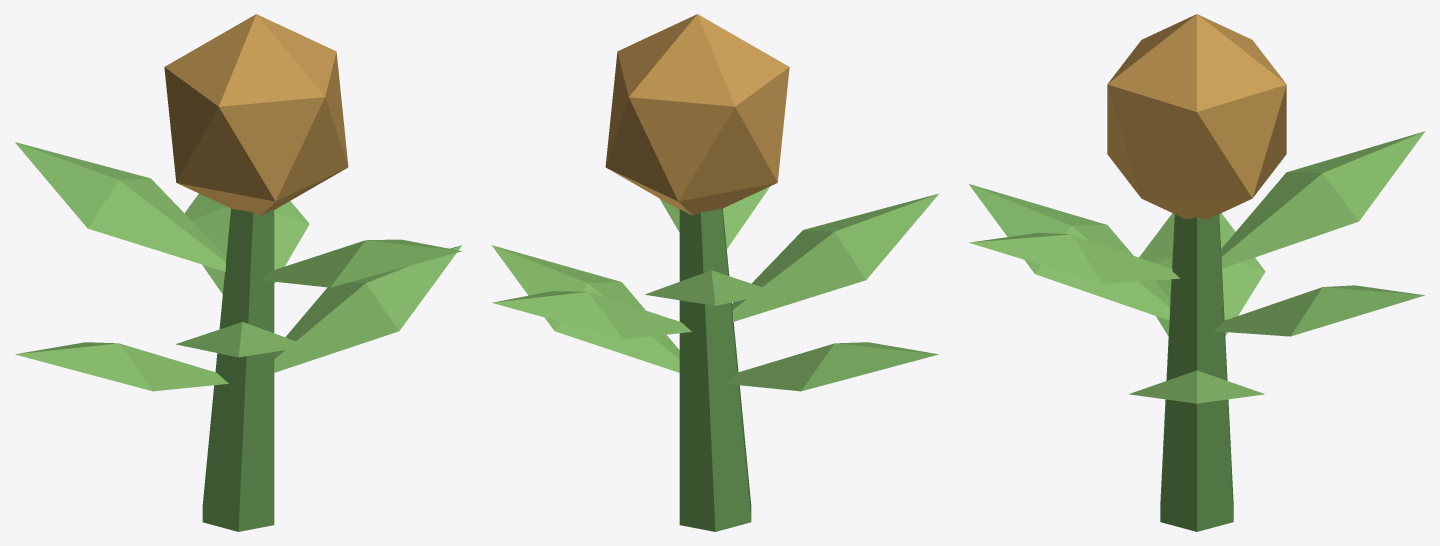
The model's file is pg_plant_purified.fbx.
The picture shows the model from 3 angles, left to right: view 1: azimuth 30°, elevation 25°; view 2: azimuth 150°, elevation 25°; view 3: azimuth 270°, elevation 25°; orthographic projection. The views are drawn at different scales.
Parts seen in each view (by area): view 1: GEO-PlantBud.001, GEO-PlantStem.001, GEO-PlantLeaf.008, GEO-PlantLeaf.006, GEO-PlantLeaf.009, GEO-PlantLeaf.011, GEO-PlantLeaf.007, GEO-PlantLeaf.010; view 2: GEO-PlantBud.001, GEO-PlantStem.001, GEO-PlantLeaf.010, GEO-PlantLeaf.006, GEO-PlantLeaf.009, GEO-PlantLeaf.007, GEO-PlantLeaf.008, GEO-PlantLeaf.011; view 3: GEO-PlantBud.001, GEO-PlantStem.001, GEO-PlantLeaf.008, GEO-PlantLeaf.010, GEO-PlantLeaf.007, GEO-PlantLeaf.011, GEO-PlantLeaf.009, GEO-PlantLeaf.006.
Boxes of the visible parts, x1,y1,x2,y2 form: GEO-PlantBud.001: (164, 14, 348, 215); GEO-PlantStem.001: (202, 208, 274, 531); GEO-PlantLeaf.008: (15, 142, 226, 271); GEO-PlantLeaf.006: (274, 245, 461, 372); GEO-PlantLeaf.009: (15, 342, 228, 391); GEO-PlantLeaf.011: (260, 239, 461, 287); GEO-PlantLeaf.007: (184, 193, 309, 294); GEO-PlantLeaf.010: (176, 322, 309, 357); GEO-PlantBud.001: (605, 14, 789, 215); GEO-PlantStem.001: (679, 208, 751, 531); GEO-PlantLeaf.010: (732, 193, 939, 321); GEO-PlantLeaf.006: (492, 245, 679, 372); GEO-PlantLeaf.009: (725, 342, 938, 391); GEO-PlantLeaf.007: (491, 291, 691, 339); GEO-PlantLeaf.008: (645, 270, 777, 305); GEO-PlantLeaf.011: (660, 186, 769, 248); GEO-PlantBud.001: (1107, 14, 1286, 219); GEO-PlantStem.001: (1160, 214, 1233, 531); GEO-PlantLeaf.008: (1221, 131, 1425, 268); GEO-PlantLeaf.010: (969, 184, 1170, 320); GEO-PlantLeaf.007: (1213, 285, 1424, 336); GEO-PlantLeaf.011: (969, 232, 1180, 283); GEO-PlantLeaf.009: (1139, 213, 1265, 336); GEO-PlantLeaf.006: (1129, 370, 1264, 403).
Size of the model in its own units: 100 by 106 by 86.6.
